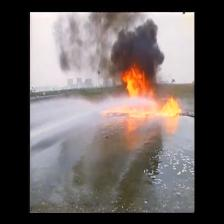fire: (124, 69, 146, 93), (163, 98, 180, 115)
smoke: (112, 28, 161, 65)
